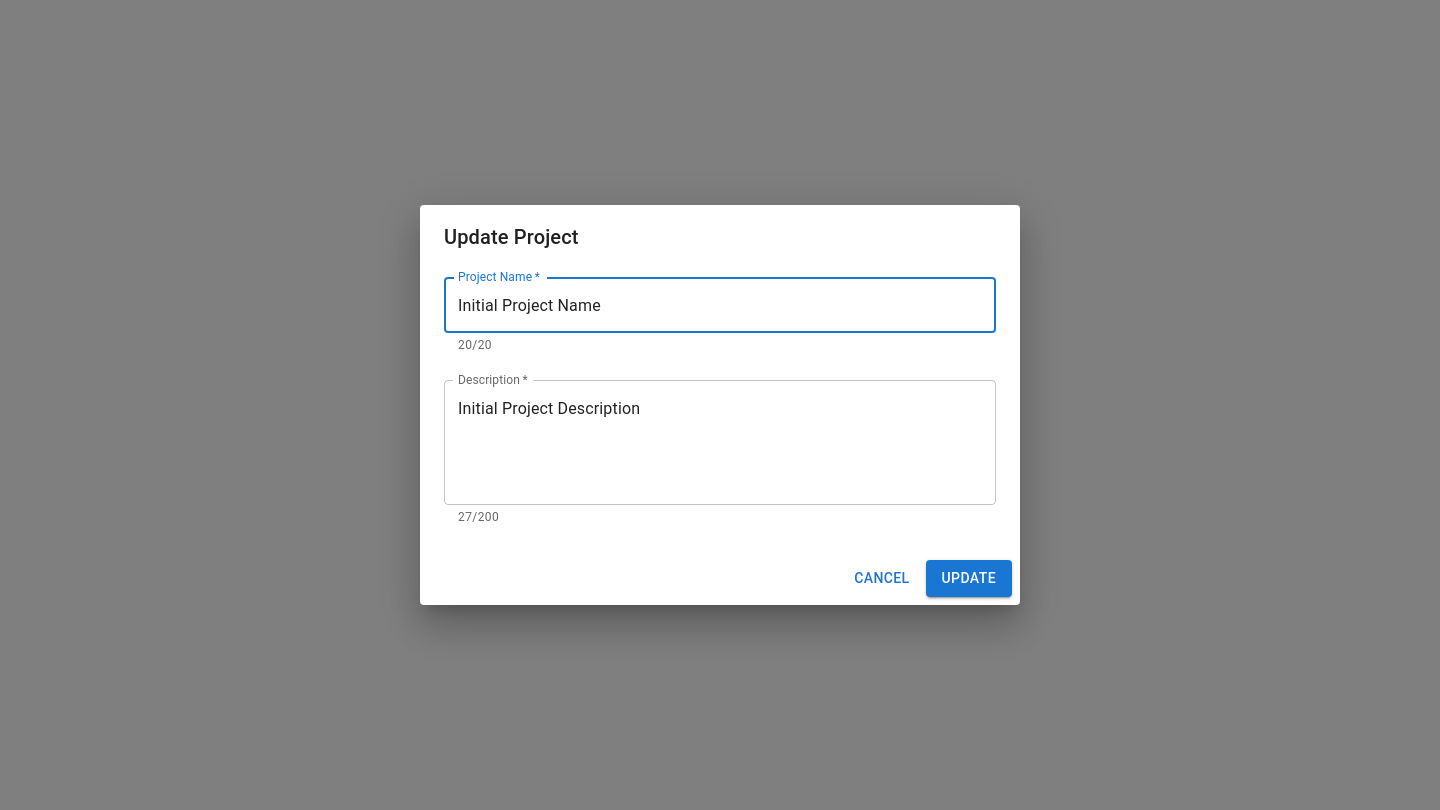
Test: UpdateProjectDialog › should display character count for description field
This screenshot has width=1440, height=810.
Replace the text in the text box with placeholder "Enter project description" with "Test Description". click: (720,443)
box: [458,397,982,489]
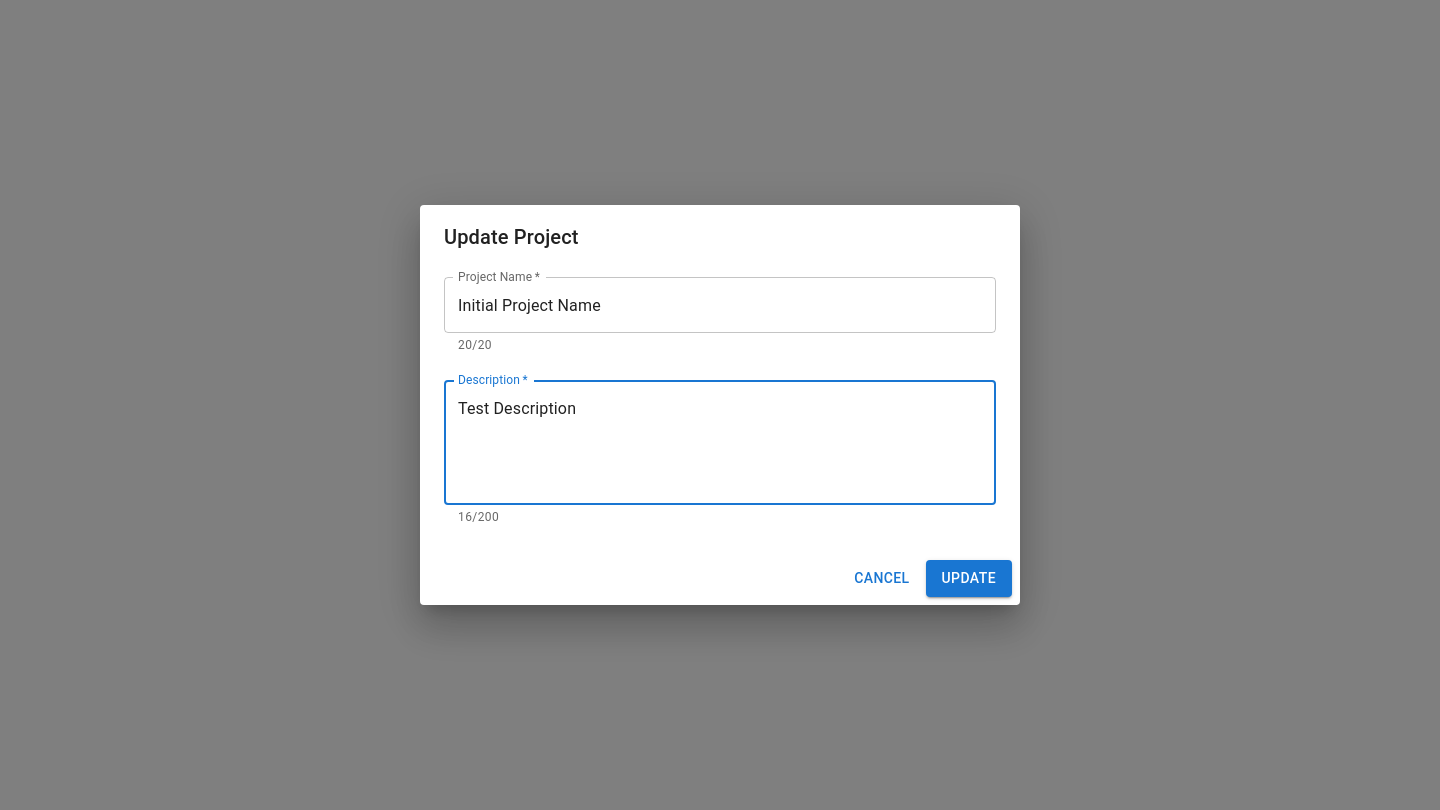
expect the text "16/200" is shown: met, box [458,510,499,524]
